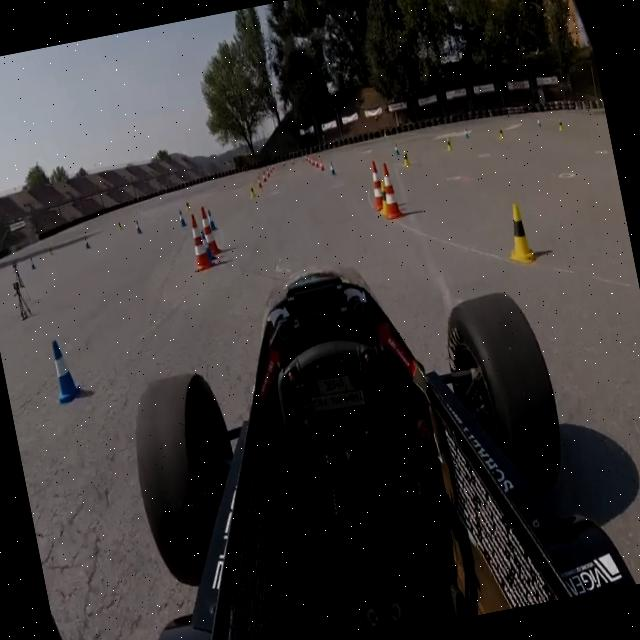blue_cone: (48, 338, 83, 406), (198, 228, 216, 262)
large_orange_cone: (184, 210, 213, 270), (376, 161, 404, 220), (195, 205, 222, 258), (365, 158, 390, 212)
yellow_cone: (500, 202, 538, 267), (375, 181, 393, 217)
